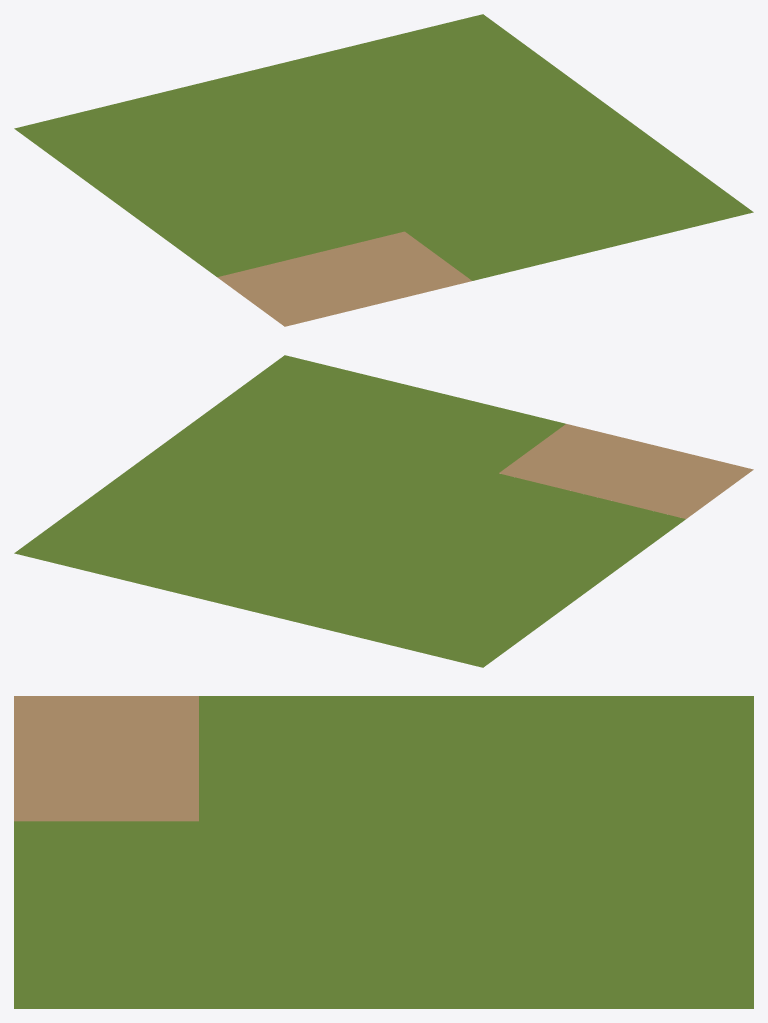
Rendered from cure-2-0.glb.
3 views of the same model, one above another, from view 1: azimuth 30°, elevation 25°; view 2: azimuth 150°, elevation 25°; view 3: azimuth 270°, elevation 25° (orthographic). The views are drawn at different scales.
Parts seen in each view (by area): view 1: cure-2-0; view 2: cure-2-0; view 3: cure-2-0.
Part boxes in pixels (x1,y1,x2,y2): cure-2-0: [14, 14, 753, 326]; cure-2-0: [14, 355, 753, 667]; cure-2-0: [14, 696, 753, 1008].
Bounding box in the file's own units: 100 × 0.002 × 100.
